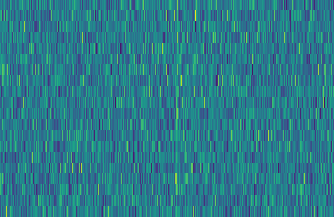signal: (171, 0, 181, 217)
